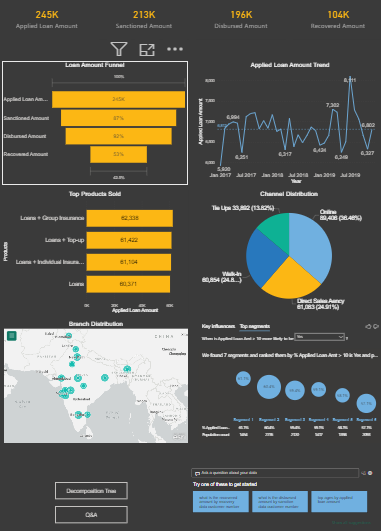

This screenshot's page, from the dashboard's own definition file:
{"tool":"powerbi","page":{"name":"Page 1","canvas":[1280,2000],"ordinal":0},"visuals":[{"type":"advanceCardE03760C5AB684758B56AA29F9E6C257B","fields":{"mainMeasure":["Customer.Applied Loan Amount"]},"box":[9.5,0,300,140],"z":0},{"type":"advanceCardE03760C5AB684758B56AA29F9E6C257B","fields":{"mainMeasure":["Sanction Data.Sanctioned Amount"]},"box":[333.1,0,299.9,141.1],"z":1000},{"type":"advanceCardE03760C5AB684758B56AA29F9E6C257B","fields":{"mainMeasure":["Sanction Data.Disbursed Amount"]},"box":[656.6,0,299.9,141.1],"z":2000},{"type":"advanceCardE03760C5AB684758B56AA29F9E6C257B","fields":{"mainMeasure":["Recovery Data.Recovered Amount"]},"box":[980.1,0,299.9,141.1],"z":3000},{"type":"funnel","title":"Loan Amount Funnel","fields":{"Y":["Customer.Applied Loan Amount","Sanction Data.Sanctioned Amount","Sanction Data.Disbursed Amount","Recovery Data.Recovered Amount"]},"box":[9.4,212,620,414.7],"z":4000},{"type":"lineChart","title":"Applied Loan Amount Trend","fields":{"Y":["Customer.Applied Loan Amount"],"Category":["Dates.Month Yr.Variation.Date Hierarchy.Year","Dates.Month Yr.Variation.Date Hierarchy.Quarter","Dates.Month Yr.Variation.Date Hierarchy.Month"]},"box":[659.1,212.6,620.9,413.9],"z":5000},{"type":"barChart","title":"Top Products Sold","fields":{"Y":["Customer.Applied Loan Amount"],"Category":["Product.Products"]},"box":[9.4,642.3,620.5,414.7],"z":6000},{"type":"pieChart","title":"Channel Distribution","fields":{"Y":["Customer.Applied Loan Amount"],"Category":["Channel.Channels"]},"box":[656.4,642.3,620.5,414.7],"z":7000},{"type":"esriVisual","title":"Branch Distribution","fields":{"Size":["Customer.Applied Loan Amount"],"Latitude":["Branch.Branch Latitute"],"Longitude":["Branch.Branch Longitude"],"Color":["Customer.Applied Loan Amt > 10"]},"box":[12.5,1075.8,620.5,414.7],"z":8000},{"type":"keyDriversVisual","title":"Branch Distribution","fields":{"Target":["Customer.Applied Loan Amt > 10"],"ExplainBy":["Customer.Age","Channel.Channels","Branch.Branch Name","Customer.Gender","Customer.Salary","Customer.Occupation","Product.Products"]},"box":[659.5,1075.8,620.5,414.7],"z":9000},{"type":"qnaVisual","title":"Branch Distribution","box":[633,1546.6,619,414.7],"z":11000},{"type":"actionButton","box":[185.5,1616.8,241.7,57.7],"z":12000},{"type":"actionButton","box":[187.1,1696.3,241.7,57.7],"z":13000}]}

Visuals, with their boxes on the page's 1280x2000 design canvas (x1, y1, x2, y2). These are canvas units, not pixel positions in the 381x531 screenshot, which may show the page scaled, cropped or inside an application window:
advanceCardE03760C5AB684758B56AA29F9E6C257B - Customer.Applied Loan Amount: pyautogui.locateOnScreen(10, 0, 310, 140)
advanceCardE03760C5AB684758B56AA29F9E6C257B - Sanction Data.Sanctioned Amount: pyautogui.locateOnScreen(333, 0, 633, 141)
advanceCardE03760C5AB684758B56AA29F9E6C257B - Sanction Data.Disbursed Amount: pyautogui.locateOnScreen(657, 0, 956, 141)
advanceCardE03760C5AB684758B56AA29F9E6C257B - Recovery Data.Recovered Amount: pyautogui.locateOnScreen(980, 0, 1280, 141)
"Loan Amount Funnel" funnel: pyautogui.locateOnScreen(9, 212, 629, 627)
"Applied Loan Amount Trend" lineChart: pyautogui.locateOnScreen(659, 213, 1280, 626)
"Top Products Sold" barChart: pyautogui.locateOnScreen(9, 642, 630, 1057)
"Channel Distribution" pieChart: pyautogui.locateOnScreen(656, 642, 1277, 1057)
"Branch Distribution" esriVisual: pyautogui.locateOnScreen(12, 1076, 633, 1490)
"Branch Distribution" keyDriversVisual: pyautogui.locateOnScreen(660, 1076, 1280, 1490)
"Branch Distribution" qnaVisual: pyautogui.locateOnScreen(633, 1547, 1252, 1961)
actionButton: pyautogui.locateOnScreen(186, 1617, 427, 1674)
actionButton: pyautogui.locateOnScreen(187, 1696, 429, 1754)
